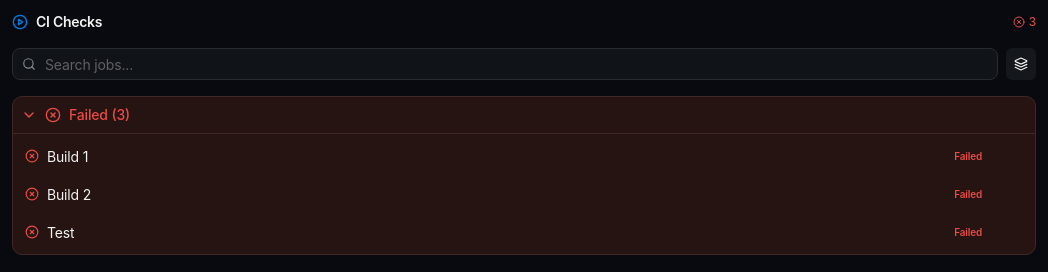
Scenario: CIChecksSection › search functionality › should show filtered count when searching
This screenshot has width=1048, height=272.
Type "Build" into the field with placeholder "Search jobs..." at (505, 64), box [12, 48, 998, 80]
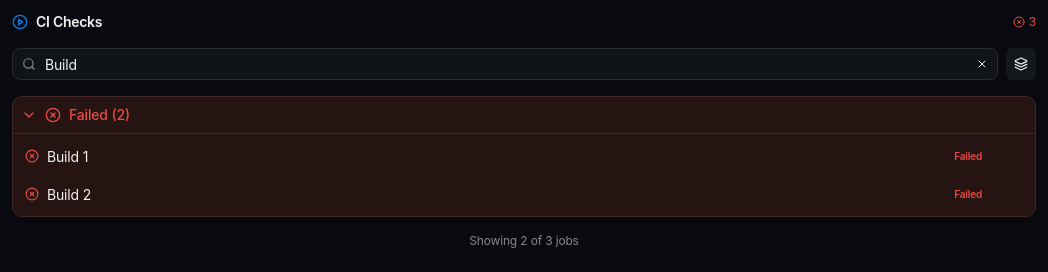
Result: the text "Showing 2 of 3 jobs" is shown at [469, 233, 579, 248]
